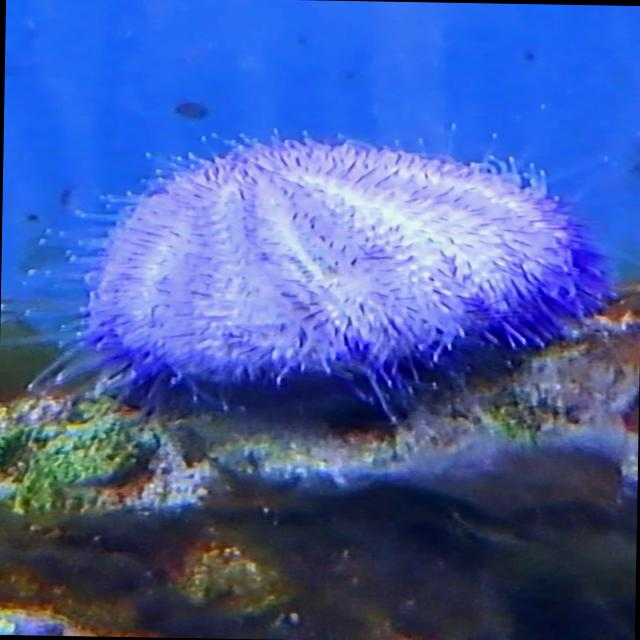Deniz Kestanesi: (50, 126, 640, 421)
